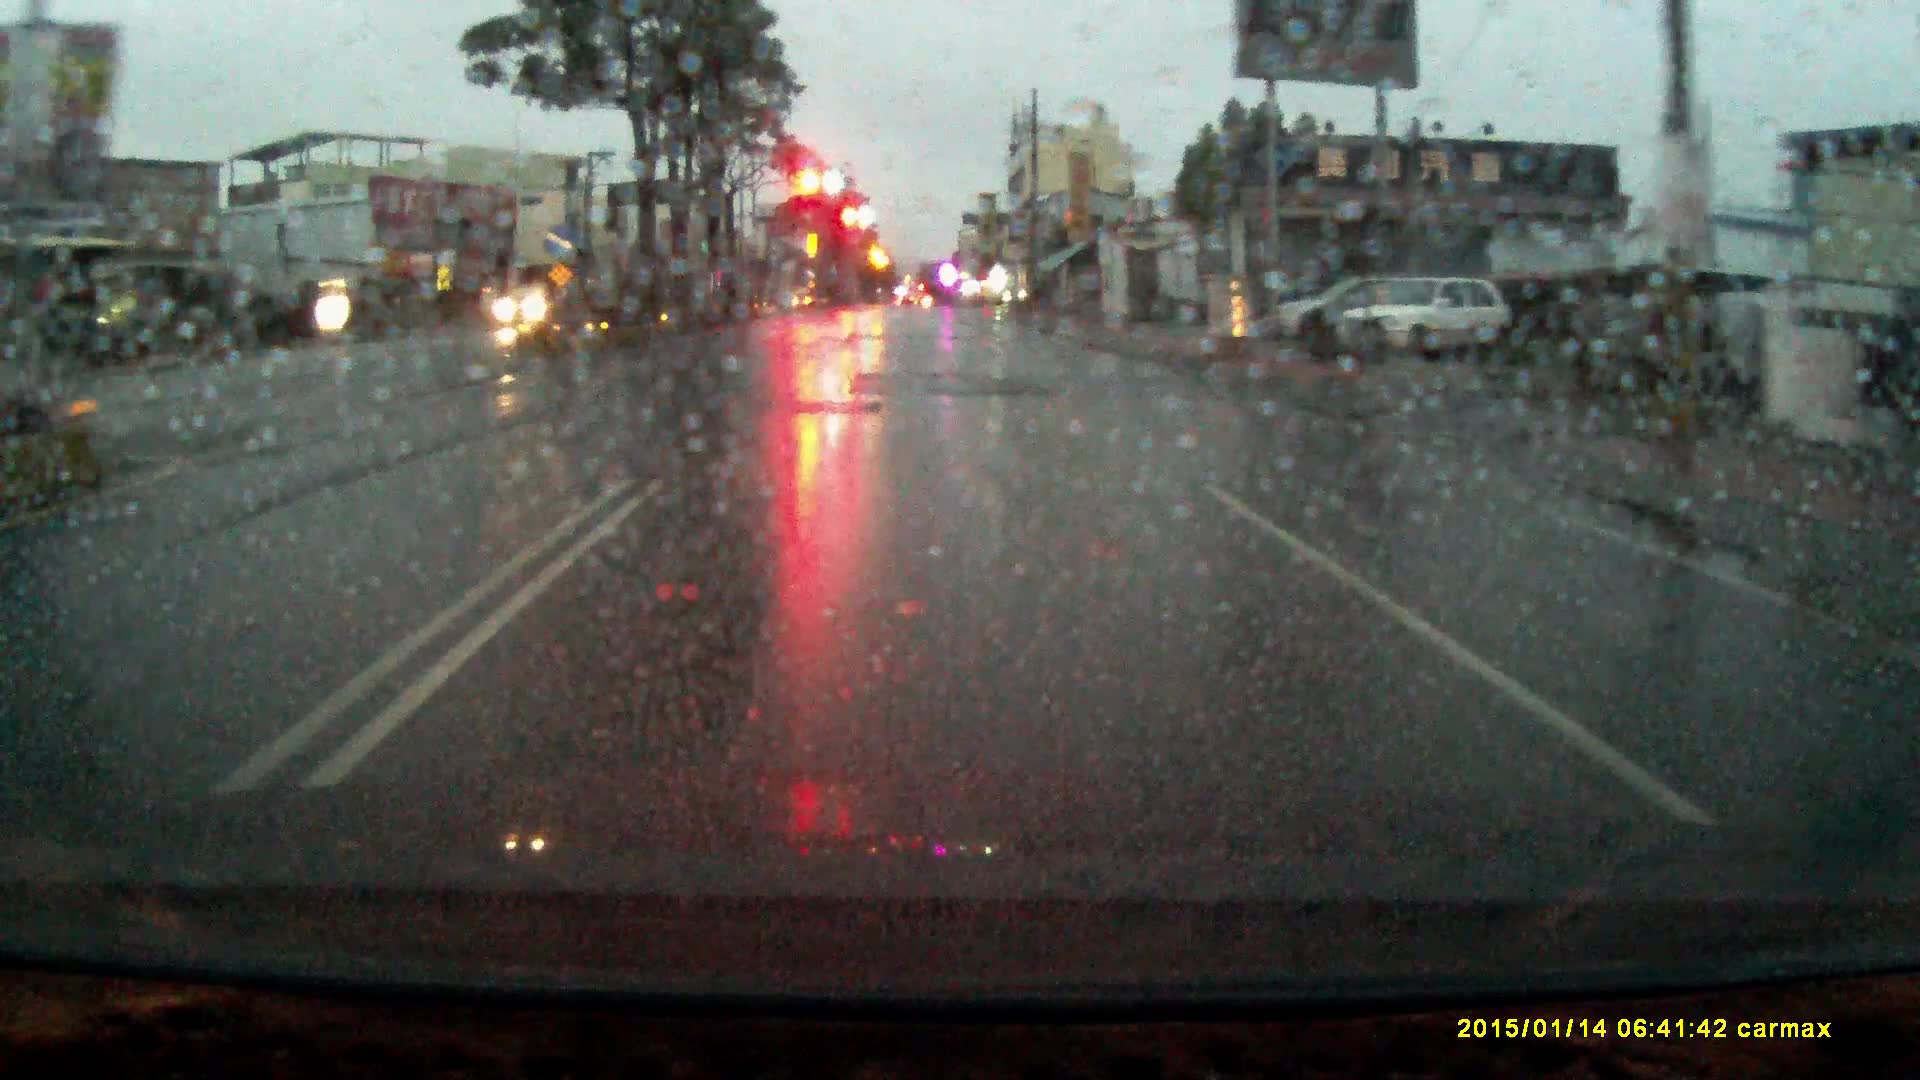vehicle: (1333, 281, 1514, 365), (1295, 280, 1437, 352), (1273, 284, 1377, 345), (495, 287, 574, 339), (1004, 284, 1056, 315)
